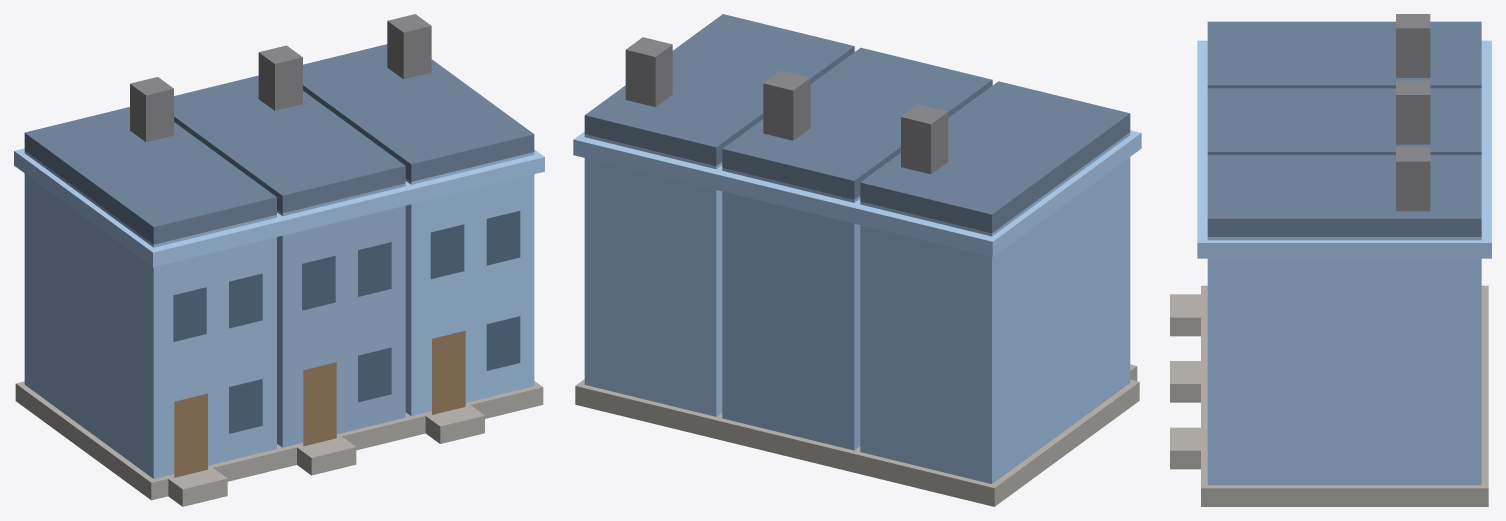
The model's file is rowhouse.glb.
3 renders of one model, left to right at view 1: azimuth 30°, elevation 25°; view 2: azimuth 150°, elevation 25°; view 3: azimuth 270°, elevation 25°, orthographic. The views are drawn at different scales.
Parts seen in each view (by area): view 1: rowhouse; view 2: rowhouse; view 3: rowhouse.
Part boxes in pixels (x1=…): rowhouse: x1=14, y1=14, x2=544, y2=506; rowhouse: x1=573, y1=14, x2=1141, y2=506; rowhouse: x1=1170, y1=14, x2=1491, y2=506.
Size of the model in its own units: 0.7 by 0.54 by 0.47.
